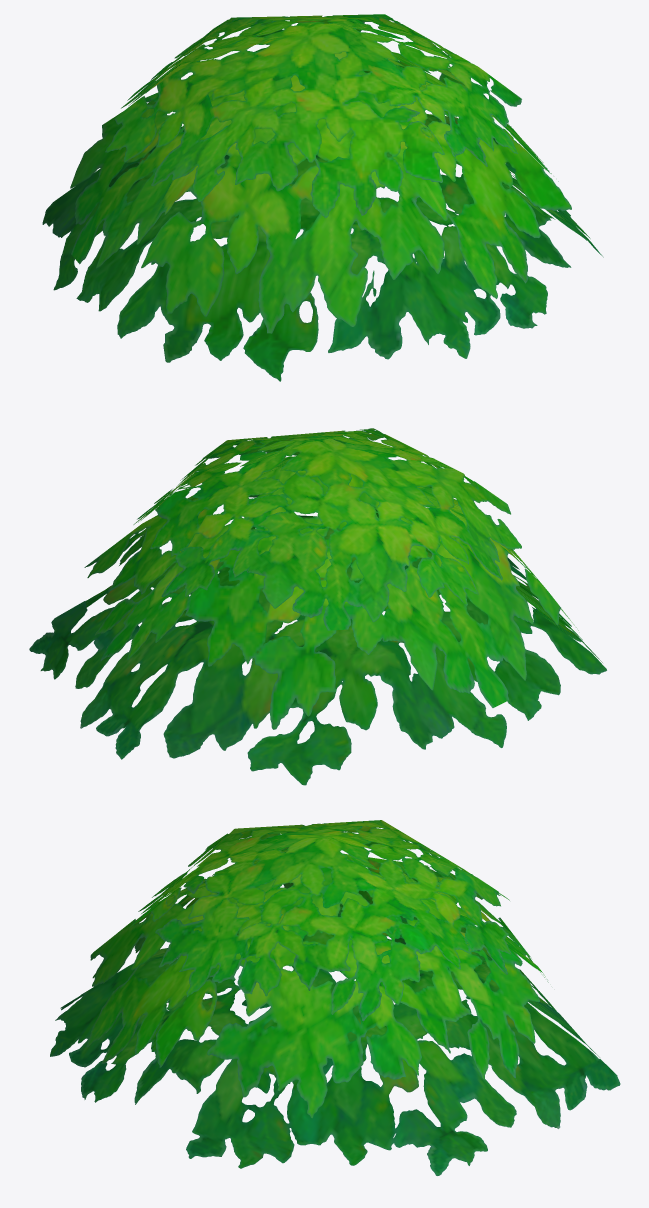
The model's file is zhucheng_guanmu.FBX.
The picture shows the model from 3 angles, top to bottom: view 1: azimuth 30°, elevation 25°; view 2: azimuth 150°, elevation 25°; view 3: azimuth 270°, elevation 25°; orthographic projection. The views are drawn at different scales.
Visible parts, largest first — view 1: zhucheng_guanmu; view 2: zhucheng_guanmu; view 3: zhucheng_guanmu.
Boxes of the visible parts, x1,y1,x2,y2 form: zhucheng_guanmu: (42,14,603,381); zhucheng_guanmu: (29,428,606,785); zhucheng_guanmu: (50,820,620,1175).
Bounding box in the file's own units: 265 × 113 × 275.
